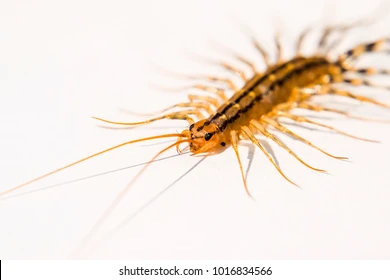centipede: (61, 18, 390, 220)
